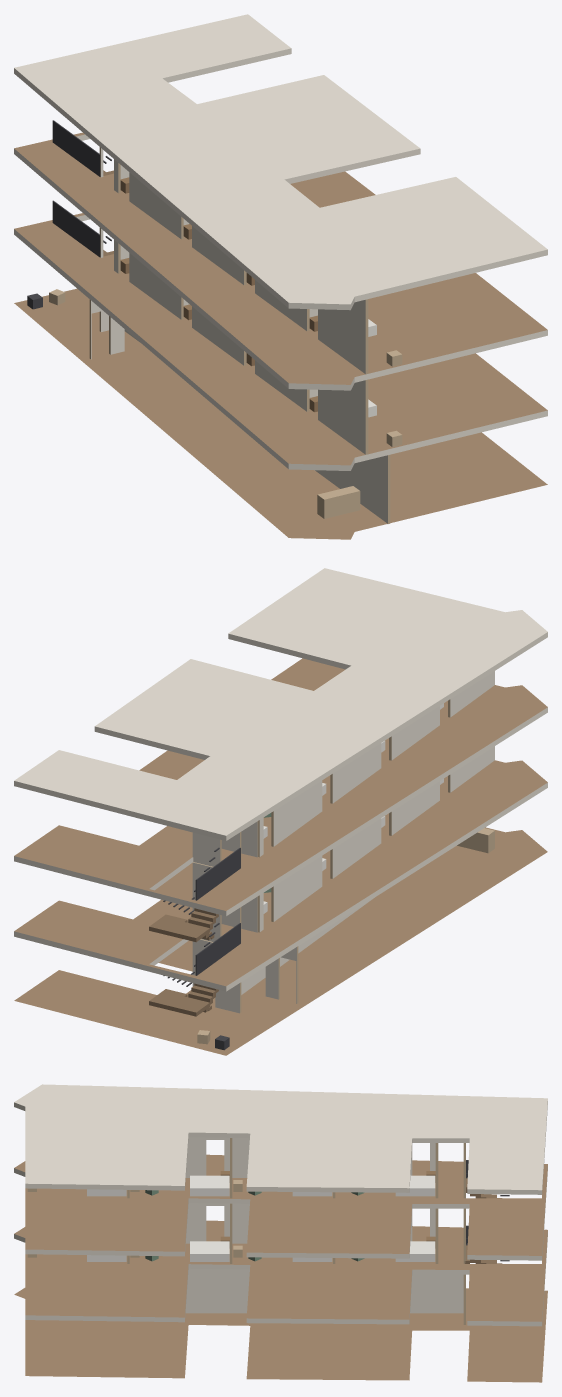
The model's file is interior.glb.
3 renders of one model, top to bottom at view 1: azimuth 30°, elevation 25°; view 2: azimuth 150°, elevation 25°; view 3: azimuth 270°, elevation 25°, orthographic. The views are drawn at different scales.
Parts seen in each view (by area): view 1: slabs, partitions, stair, coarse-s0, coarse-s1, coarse-s2; view 2: slabs, partitions, stair, coarse-s0; view 3: slabs, partitions, coarse-s2, coarse-s1, stair.
Part boxes in pixels (left/top/right/bottom): slabs: left=14, top=14, right=547, bottom=539; partitions: left=89, top=147, right=390, bottom=523; stair: left=52, top=120, right=113, bottom=257; coarse-s0: left=27, top=289, right=360, bottom=518; coarse-s1: left=120, top=258, right=402, bottom=446; coarse-s2: left=120, top=177, right=402, bottom=366; slabs: left=14, top=568, right=547, bottom=1055; partitions: left=192, top=671, right=494, bottom=1013; stair: left=149, top=847, right=240, bottom=1016; coarse-s0: left=197, top=828, right=494, bottom=1050; slabs: left=14, top=1084, right=547, bottom=1382; partitions: left=127, top=1137, right=465, bottom=1324; coarse-s2: left=27, top=1171, right=435, bottom=1196; coarse-s1: left=27, top=1236, right=435, bottom=1261; stair: left=464, top=1160, right=509, bottom=1263.
Size of the model in its own units: 12.62 by 10.72 by 26.92.
